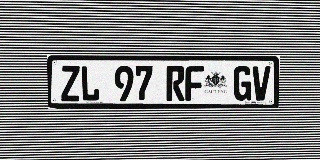7: (134, 66, 153, 101)
9: (115, 66, 134, 101)
F: (185, 66, 204, 101)
G: (233, 66, 252, 101)
L: (80, 66, 100, 101)
R: (166, 66, 185, 101)
V: (252, 66, 270, 101)
Z: (60, 66, 80, 101)
